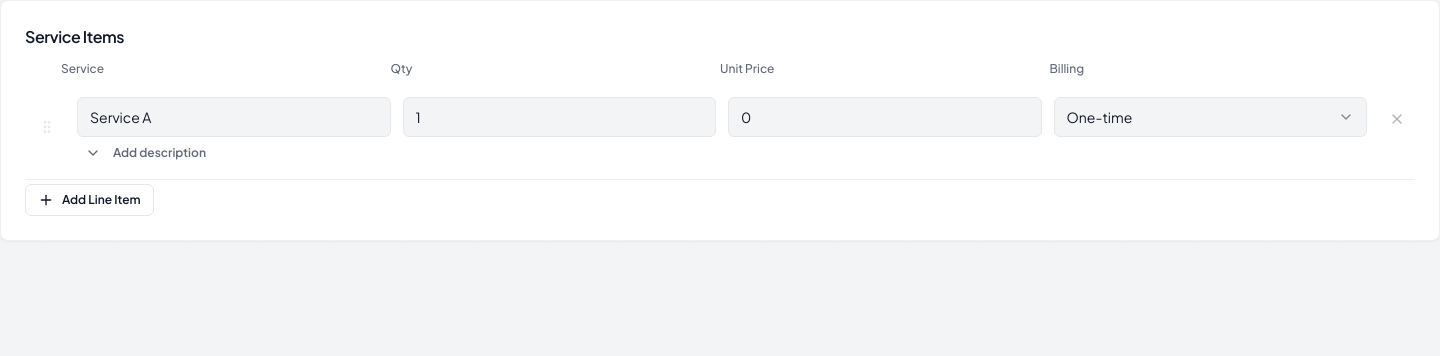
it: ProposalLineItems › adds a new line item when "Add Line Item" is clicked
Click the button "Add Line Item" at (89, 200), box [25,184,154,216]
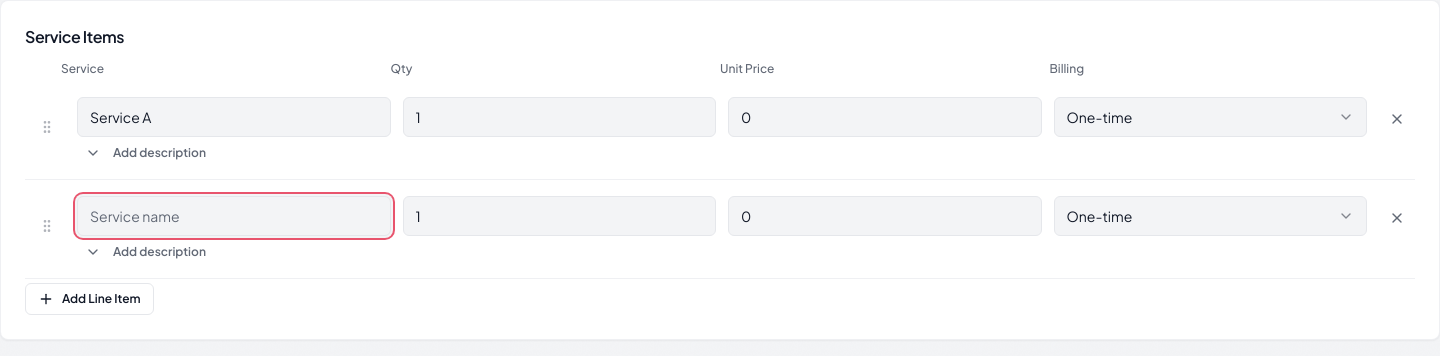
Expected: the number of buttons named "Drag to reorder" is 2, [25,105,69,149]; [25,204,69,248]
